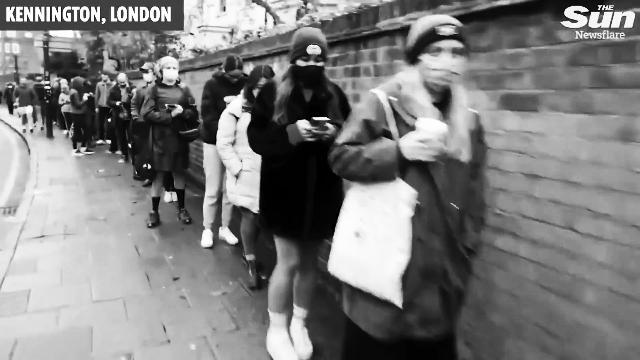berdiri: (347, 11, 498, 360), (258, 28, 350, 360), (144, 56, 198, 232)
